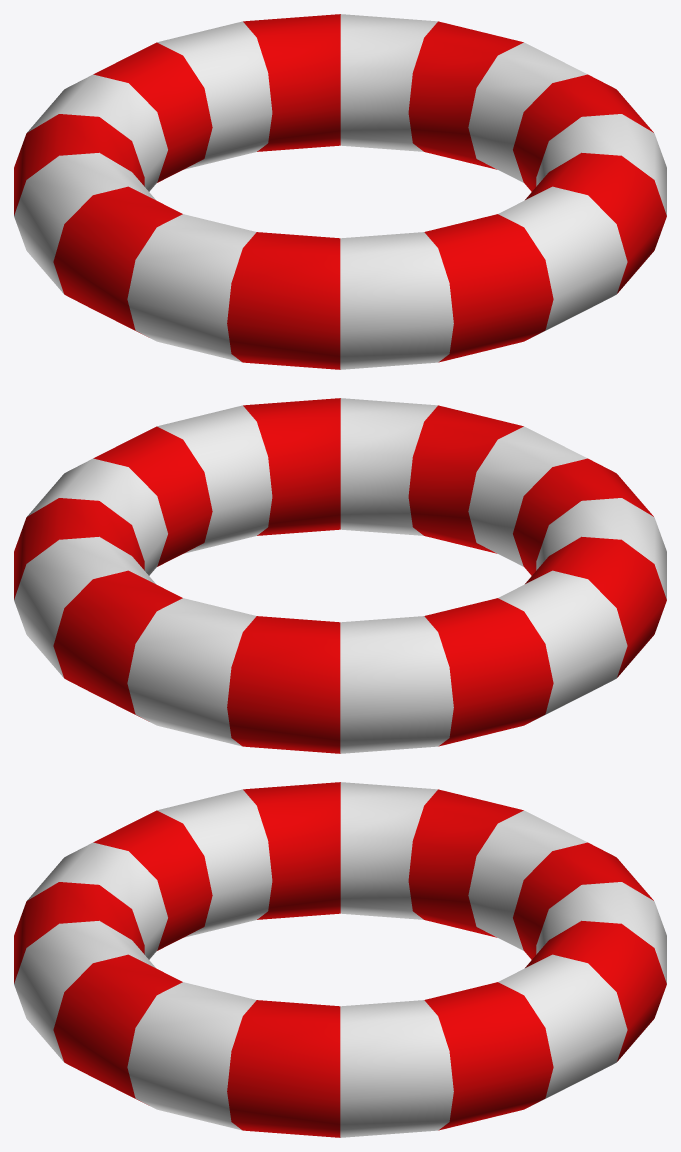
The model's file is Boué.fbx.
3 renders of one model, top to bottom at view 1: azimuth 30°, elevation 25°; view 2: azimuth 150°, elevation 25°; view 3: azimuth 270°, elevation 25°, orthographic.
Visible parts, largest first — view 1: Torus.001; view 2: Torus.001; view 3: Torus.001.
Part boxes in pixels (bbox=[...]): Torus.001: bbox=[14, 14, 666, 369]; Torus.001: bbox=[14, 398, 666, 753]; Torus.001: bbox=[14, 782, 666, 1137].
Bounding box in the file's own units: 246 × 250 × 47.55.
